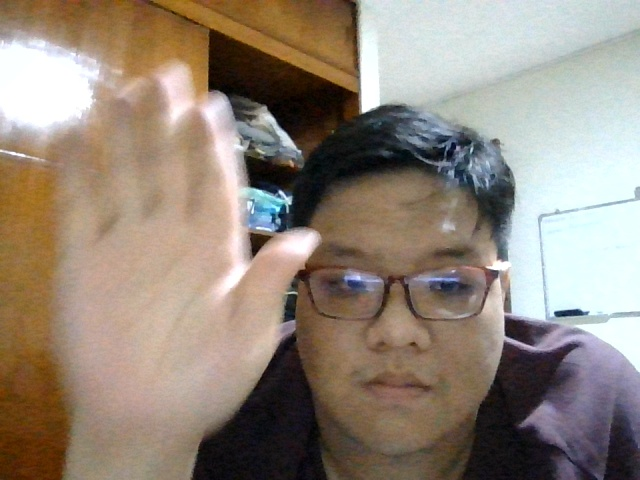hola: (48, 75, 324, 441)
